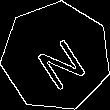N_NW: (26, 25, 87, 88)
